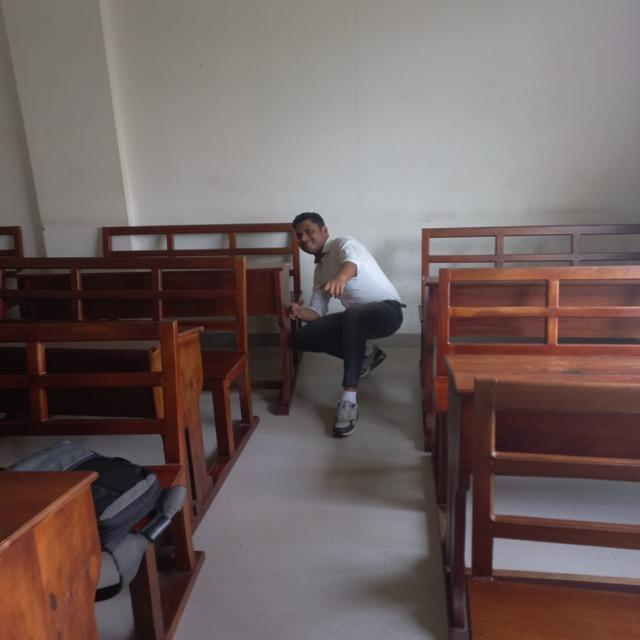no_apron: (316, 260, 369, 311)
no_gloves: (316, 274, 347, 299), (285, 300, 305, 323)
no_hairnet: (293, 209, 327, 229)
